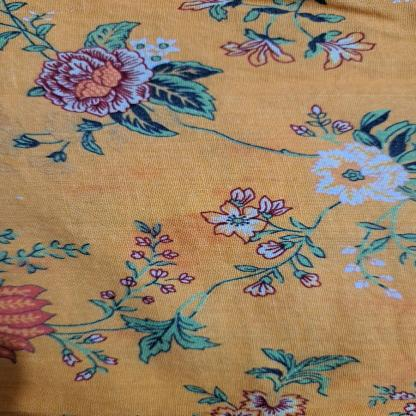spot: (143, 194, 244, 257), (9, 192, 28, 203)
